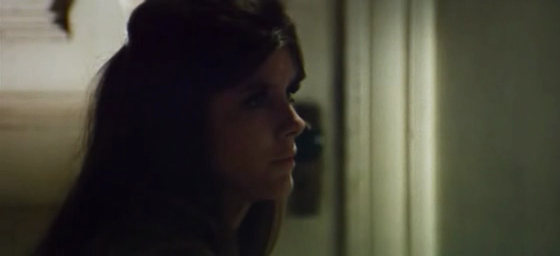cu: (1, 1, 560, 256)
face: (227, 55, 310, 203)
person: (41, 1, 310, 256)
